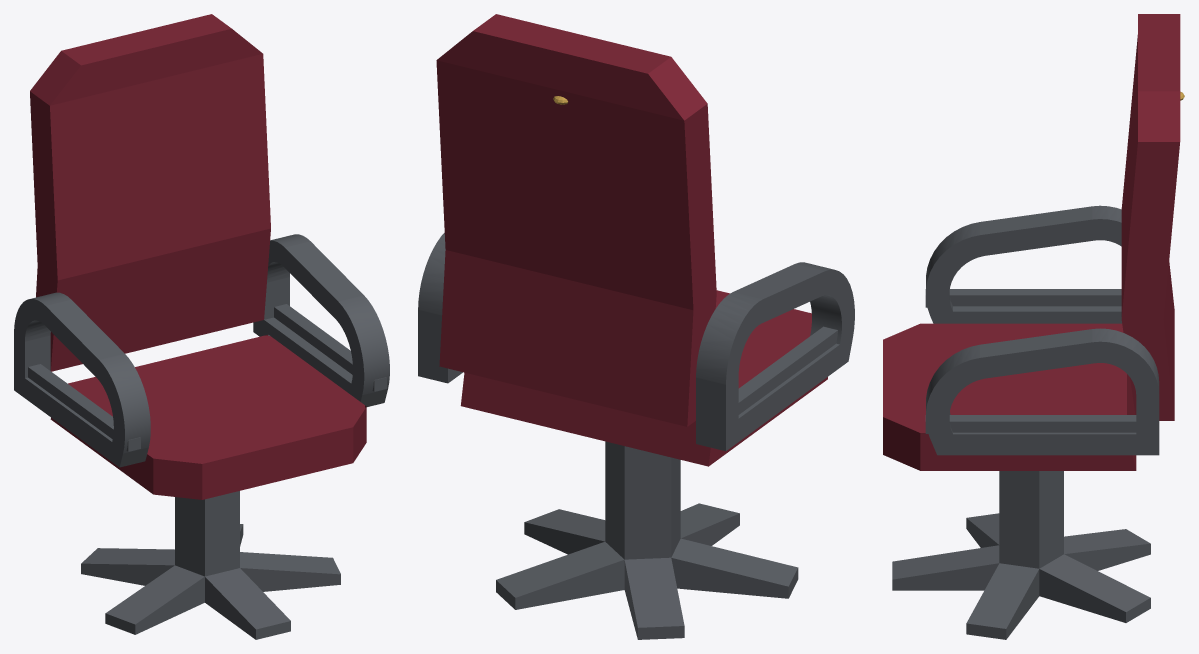
The model's file is chairDesk.glb.
3 views of the same model, side by side, from view 1: azimuth 30°, elevation 25°; view 2: azimuth 150°, elevation 25°; view 3: azimuth 270°, elevation 25° (orthographic). The views are drawn at different scales.
Parts seen in each view (by area): view 1: chair, chairDesk(Clone); view 2: chair, chairDesk(Clone); view 3: chair, chairDesk(Clone).
Part boxes in pixels (left/top/right/bottom): chair: left=14, top=14, right=389, bottom=499; chairDesk(Clone): left=81, top=491, right=340, bottom=639; chair: left=418, top=14, right=854, bottom=466; chairDesk(Clone): left=496, top=441, right=798, bottom=639; chair: left=883, top=14, right=1184, bottom=470; chairDesk(Clone): left=892, top=471, right=1150, bottom=639.
Bounding box in the file's own units: 0.335 × 0.6076 × 0.3143.
